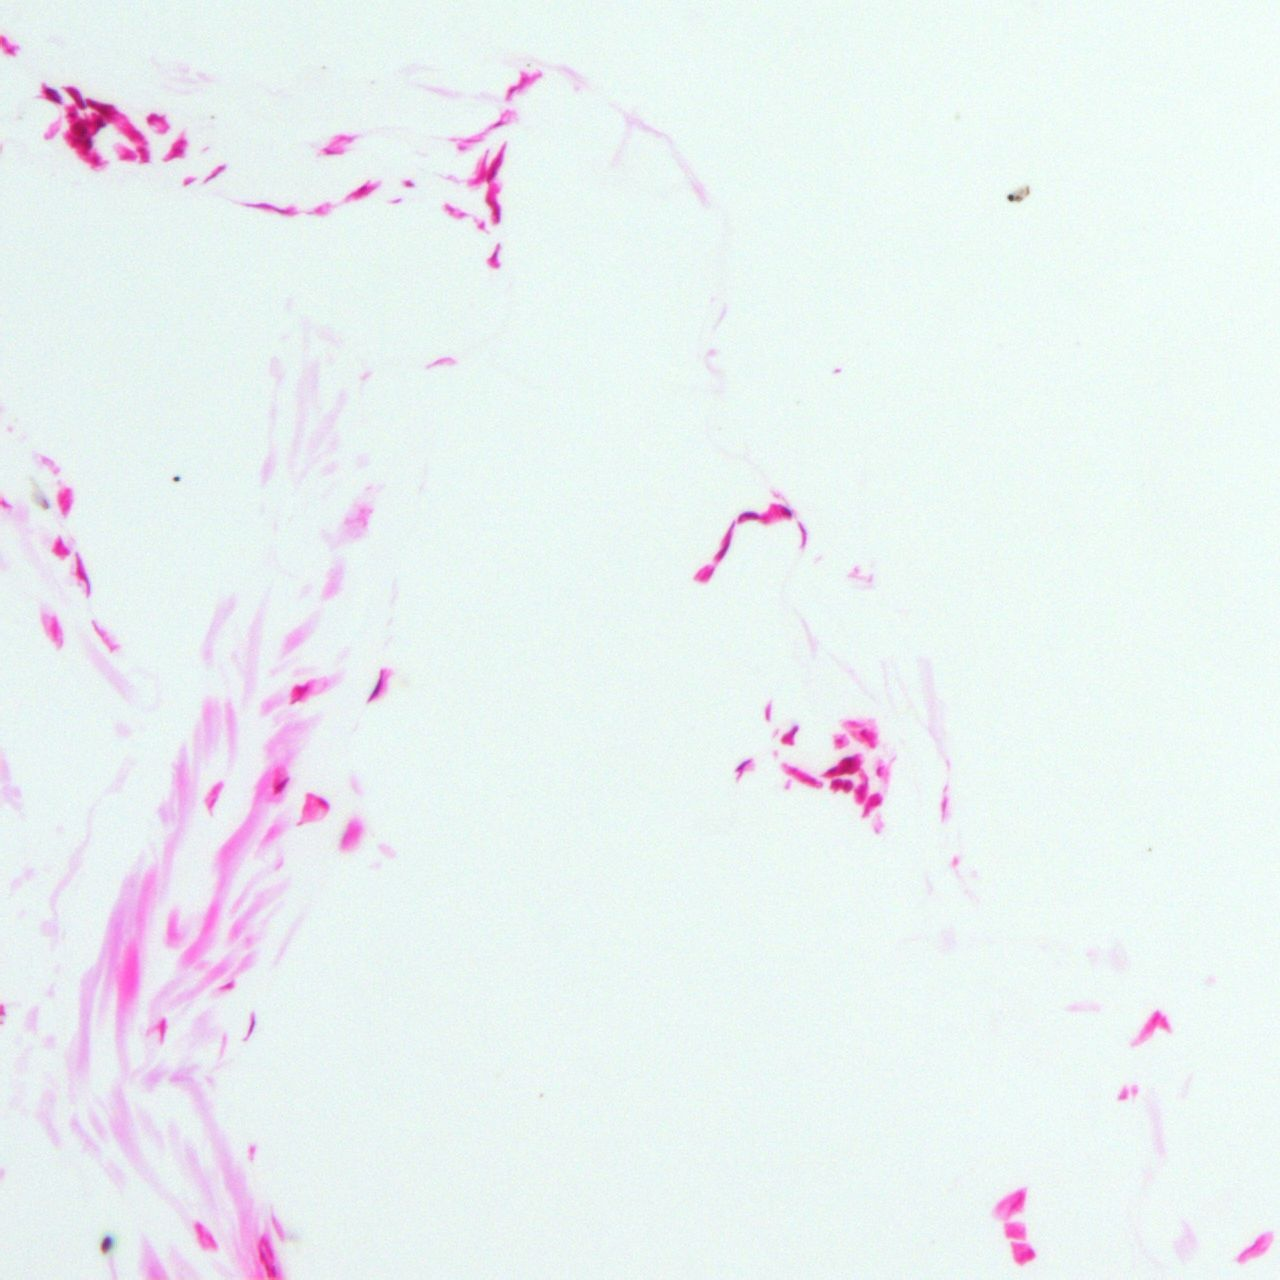dust: (98, 1235, 113, 1254), (41, 499, 52, 510), (1014, 195, 1023, 202), (1024, 185, 1030, 196), (172, 475, 181, 481), (1006, 195, 1014, 200)
nucleus-FG: (712, 518, 740, 563), (68, 551, 94, 599), (239, 198, 297, 216), (484, 139, 509, 181), (365, 666, 389, 704), (782, 763, 819, 787), (86, 93, 116, 120), (66, 83, 87, 110), (39, 83, 63, 105), (202, 162, 227, 183), (779, 724, 802, 748), (486, 195, 504, 223), (286, 682, 308, 703), (258, 1247, 272, 1280), (731, 758, 753, 779), (243, 1012, 256, 1041), (52, 536, 69, 557), (70, 125, 89, 144), (272, 776, 290, 795), (938, 796, 948, 824), (796, 520, 806, 549), (163, 145, 184, 159), (315, 795, 332, 812), (348, 183, 367, 198), (49, 613, 59, 642), (489, 243, 502, 263), (129, 125, 145, 141), (777, 505, 794, 519), (263, 1239, 275, 1257), (145, 113, 164, 124), (840, 757, 855, 772), (505, 83, 517, 101), (158, 1017, 166, 1042), (738, 511, 760, 520), (207, 1232, 218, 1250), (195, 1223, 204, 1240), (219, 981, 234, 990), (830, 779, 840, 790), (0, 498, 11, 509), (491, 120, 503, 129), (270, 1264, 277, 1279), (859, 728, 869, 738), (86, 138, 93, 151), (0, 1002, 6, 1017), (826, 765, 837, 774), (94, 120, 105, 127), (117, 154, 131, 159), (876, 767, 881, 778), (72, 122, 80, 130), (324, 150, 338, 155), (404, 181, 413, 188), (835, 738, 843, 744)
